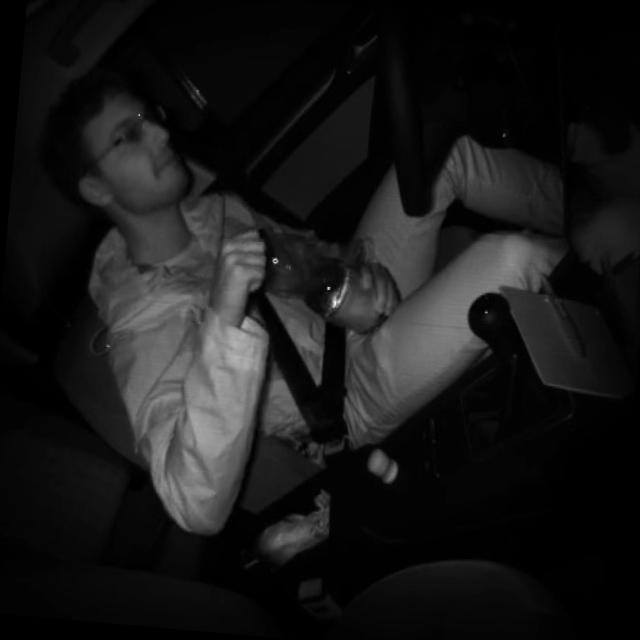pen: (530, 270, 594, 364)
